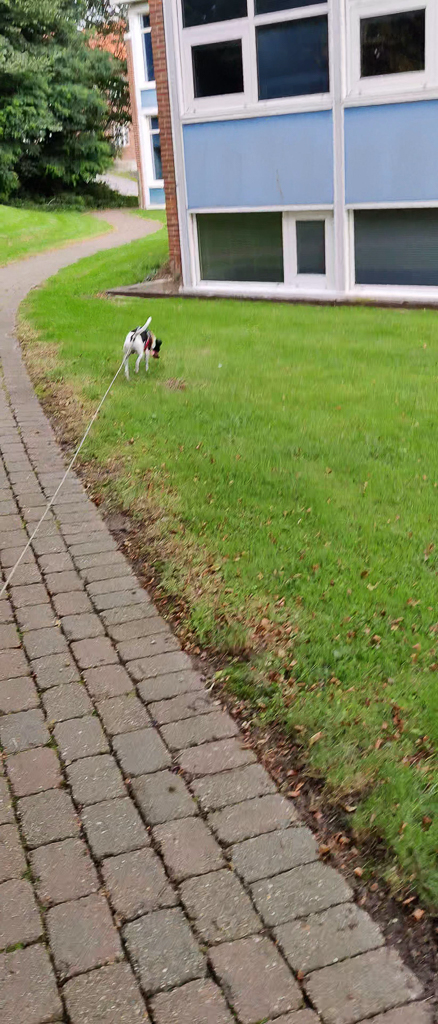Dog: (109, 311, 173, 387)
